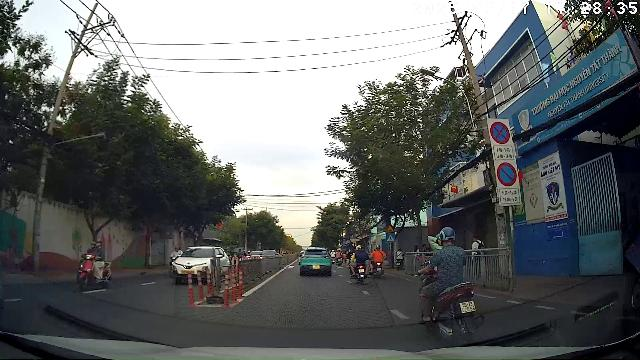130-cam-dung-va-do-xe: (490, 121, 510, 145)
131a-cam-do-xe: (497, 162, 517, 186)
